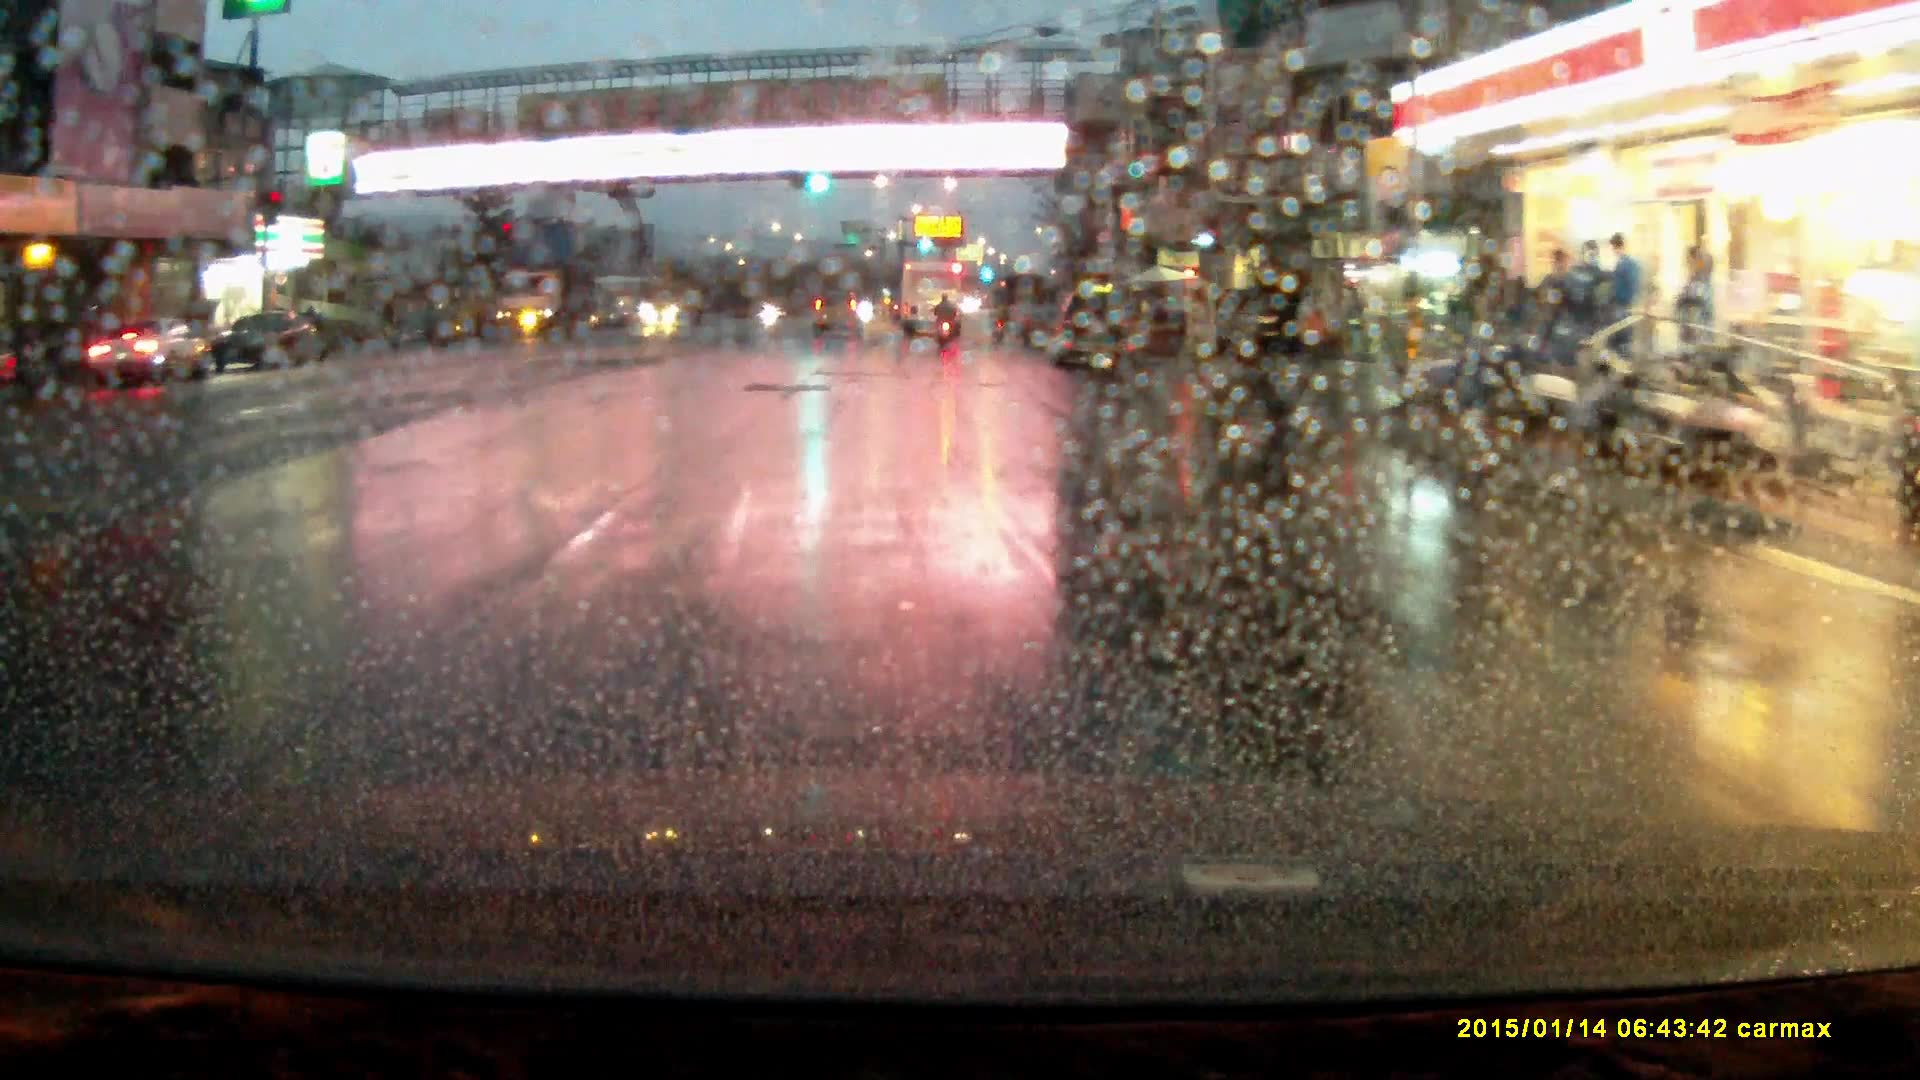rider: (935, 290, 959, 349)
vehicle: (87, 316, 204, 388), (494, 259, 597, 339), (1048, 289, 1136, 374), (209, 309, 327, 371), (1220, 287, 1305, 356), (900, 258, 963, 338), (641, 283, 709, 328), (811, 294, 865, 340)
